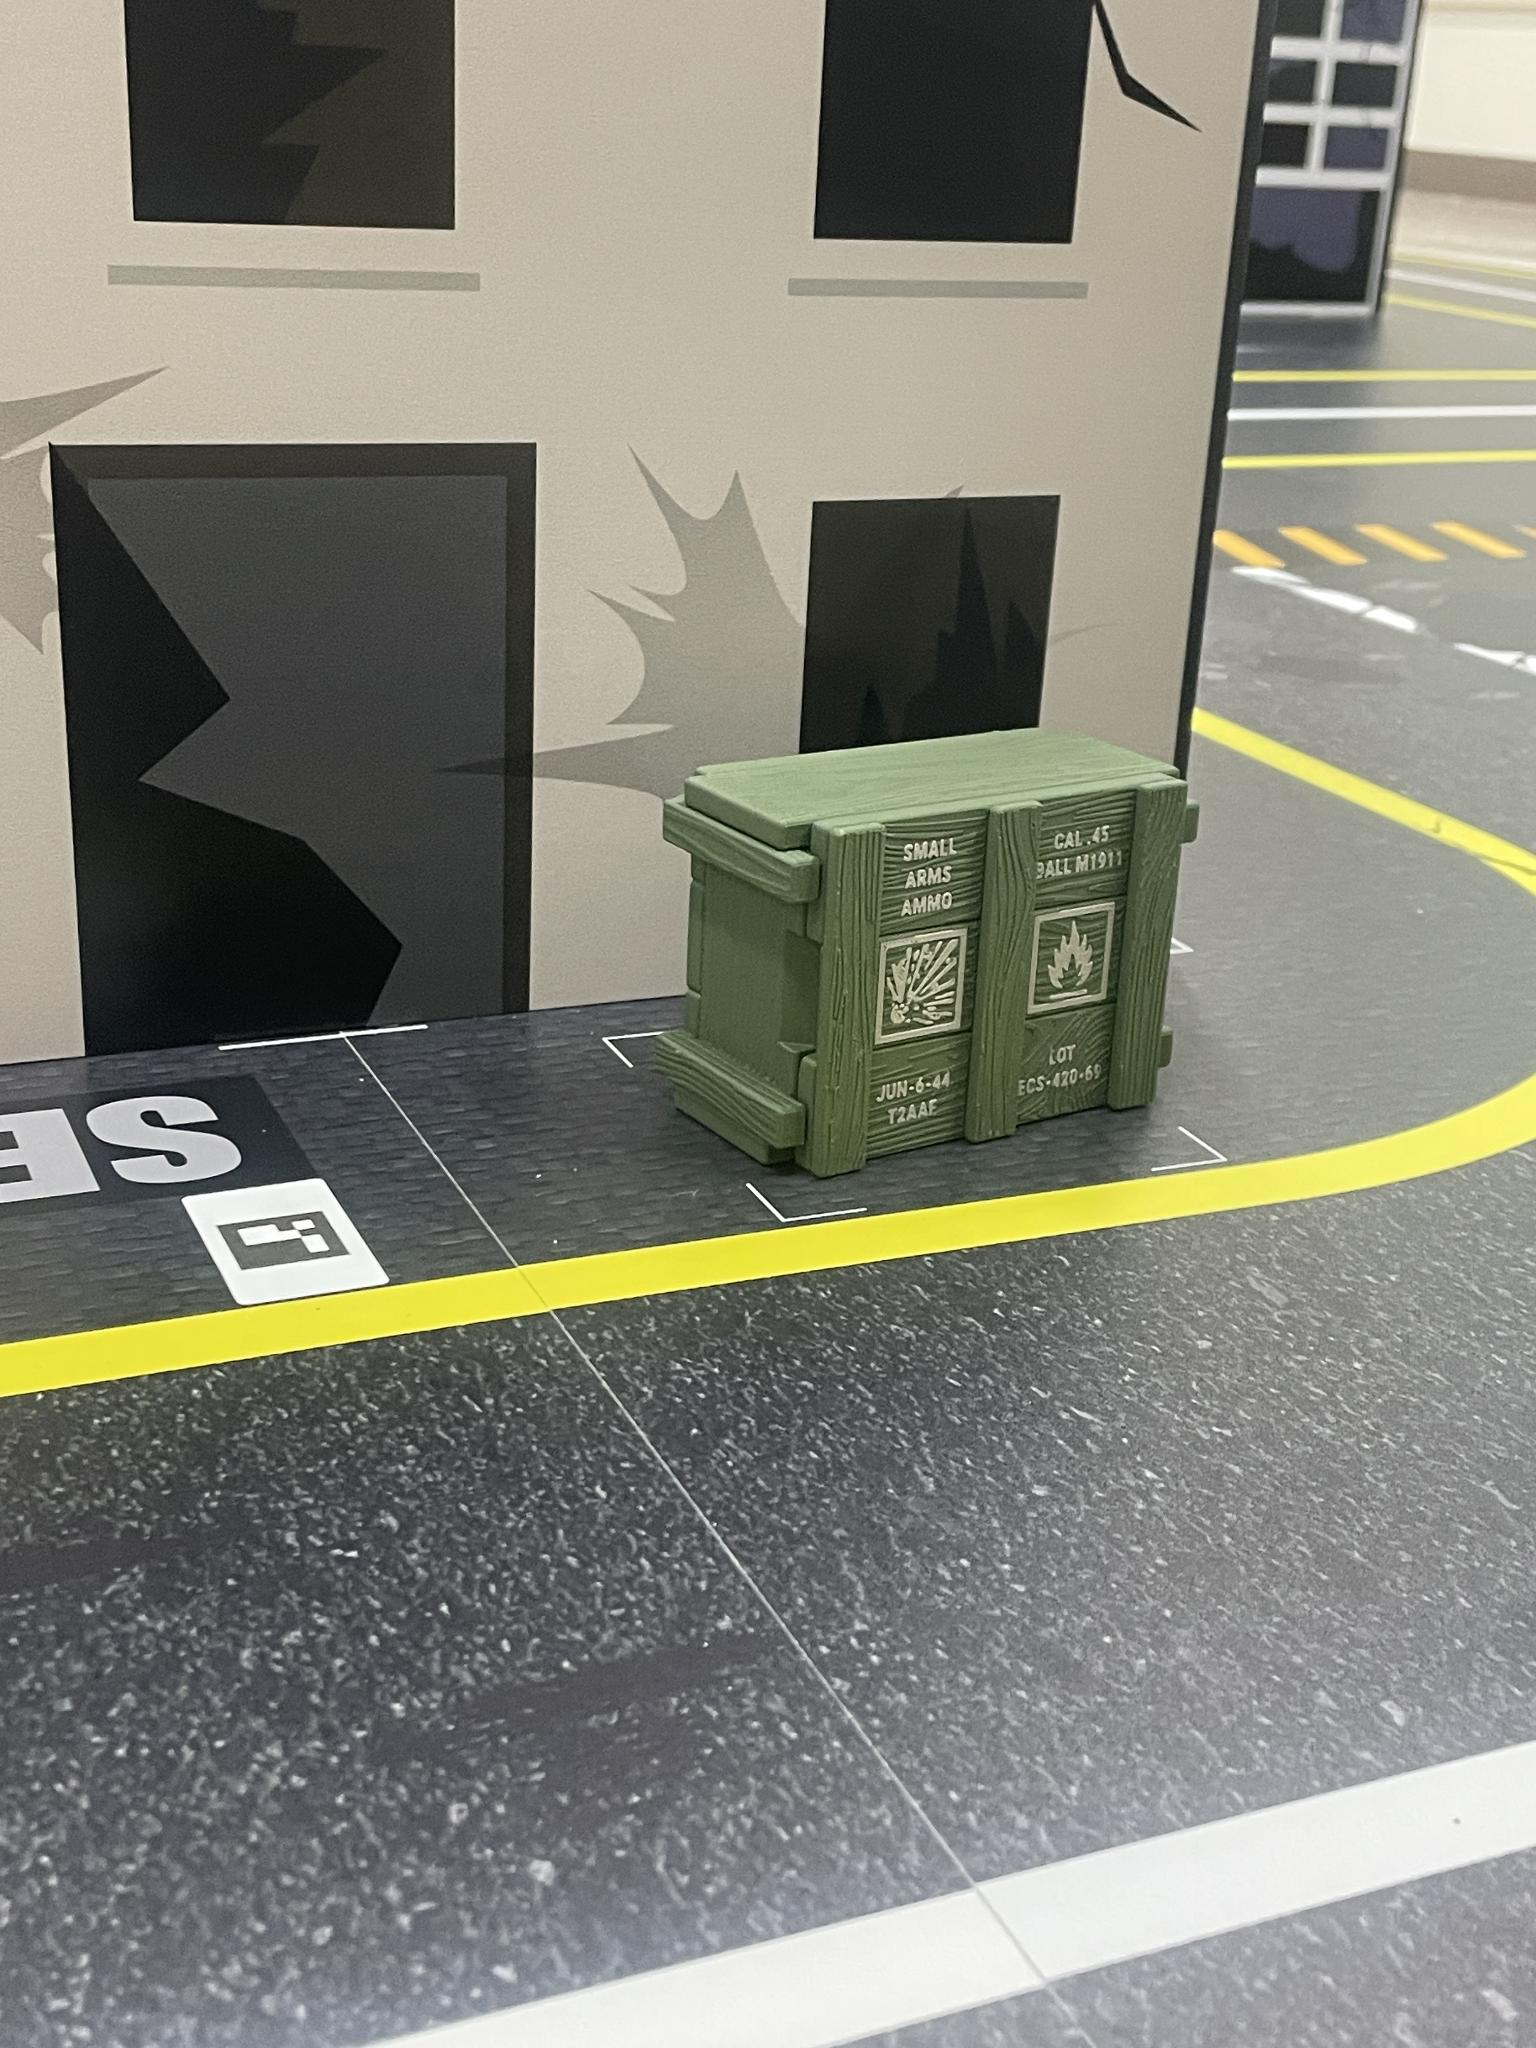Box: (642, 724, 1204, 1184)
